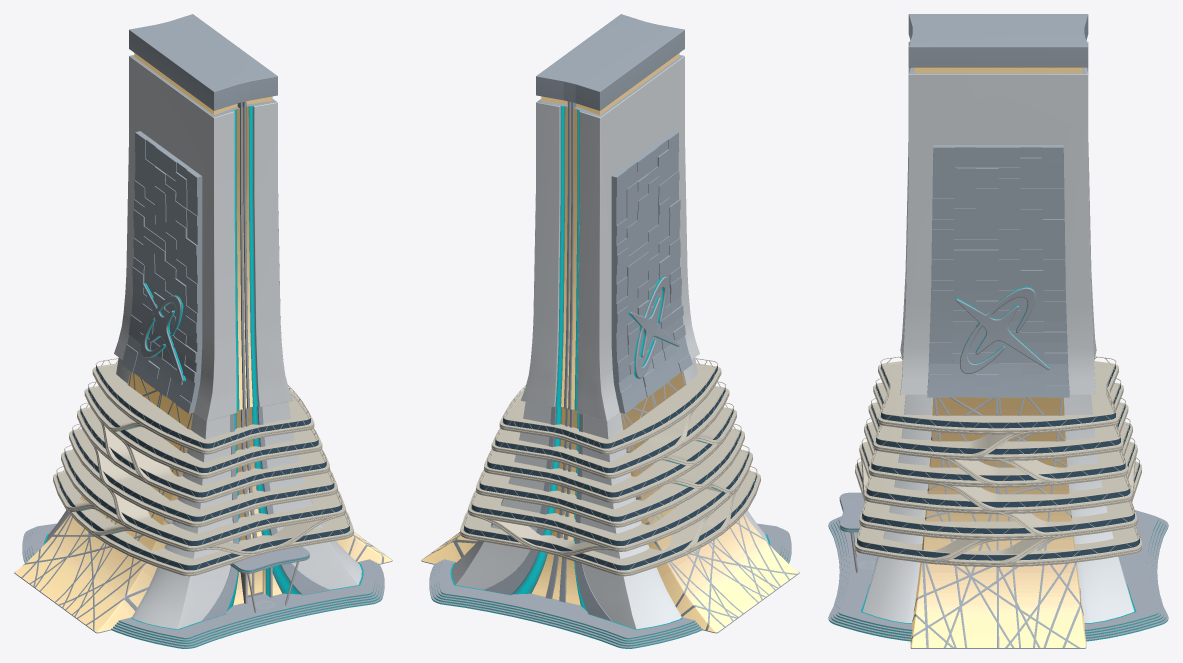
Rendered from t1_b_quasar.glb.
The picture shows the model from 3 angles, left to right: view 1: azimuth 30°, elevation 25°; view 2: azimuth 150°, elevation 25°; view 3: azimuth 270°, elevation 25°; orthographic projection. The views are drawn at different scales.
Visible parts, largest first — view 1: t1_b_quasar_base, t1_b_quasar_glass; view 2: t1_b_quasar_base, t1_b_quasar_glass; view 3: t1_b_quasar_base, t1_b_quasar_glass.
Boxes of the visible parts, x1,y1,x2,y2 form: t1_b_quasar_base: [14, 14, 392, 648]; t1_b_quasar_glass: [57, 365, 349, 570]; t1_b_quasar_base: [421, 14, 799, 648]; t1_b_quasar_glass: [464, 365, 756, 570]; t1_b_quasar_base: [828, 14, 1168, 648]; t1_b_quasar_glass: [857, 364, 1139, 560].
Size of the model in its own units: 43.53 by 72.09 by 40.99.
Materials: 10 (4 with a texture image).
